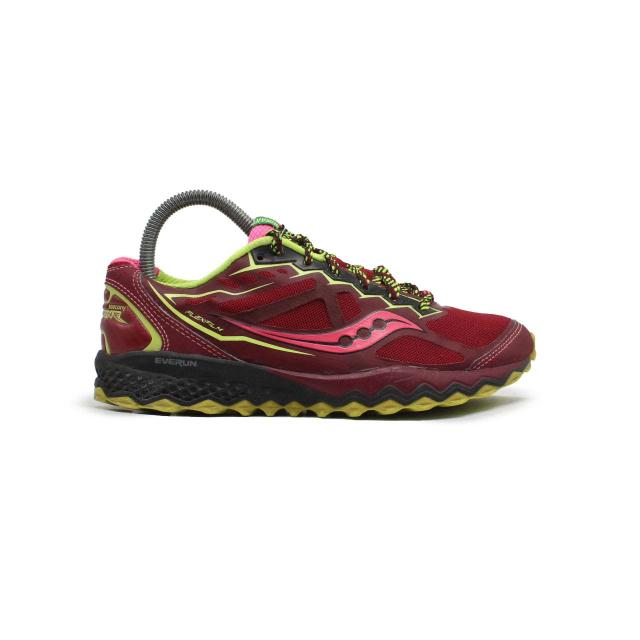heel: (99, 263, 147, 357)
midsole: (93, 354, 533, 417)
uppersole: (135, 213, 533, 382)
